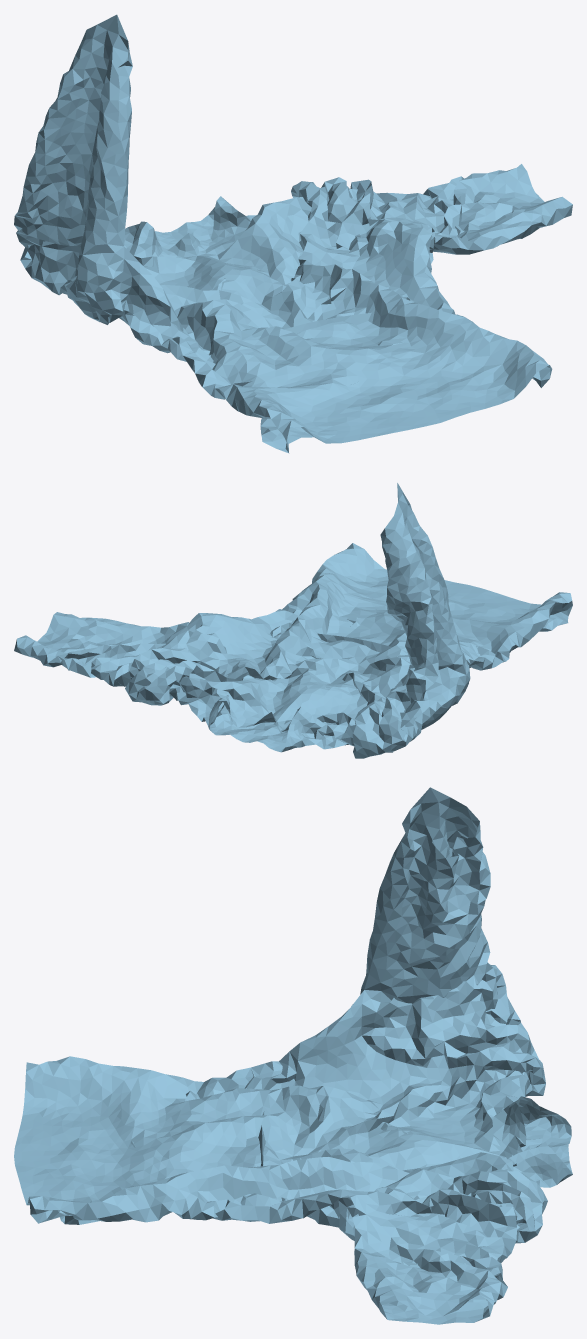
File: frame_10.glb
3 views of the same model, one above another, from view 1: azimuth 30°, elevation 25°; view 2: azimuth 150°, elevation 25°; view 3: azimuth 270°, elevation 25° (orthographic). The views are drawn at different scales.
Parts seen in each view (by area): view 1: frame_10.obj; view 2: frame_10.obj; view 3: frame_10.obj.
Part boxes in pixels (x1,y1,x2,y2): frame_10.obj: [14, 14, 572, 453]; frame_10.obj: [14, 483, 572, 758]; frame_10.obj: [14, 787, 572, 1324].
Bounding box in the file's own units: 1.5 × 0.8549 × 1.35.
